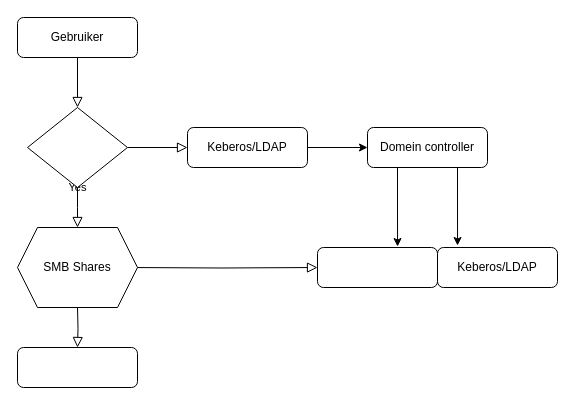
This 575x405 diagram has some shape labels left out. Here are the shapes that lost their labels. From the top down, the box of each, then its label:
(26, 106, 128, 188): Werkstation
(316, 246, 438, 288): AD DB
(16, 346, 138, 388): Repair Lamp
